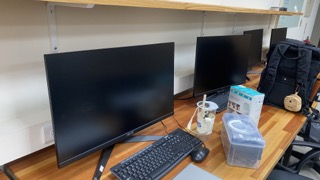screen: (42, 39, 176, 168), (193, 35, 249, 97), (243, 27, 264, 68), (270, 26, 288, 61)
